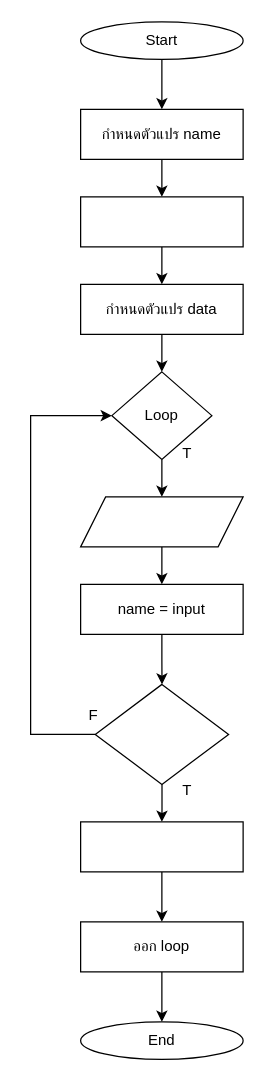
The diagram is 265 pixels wide and 1081 high, and some of its shapes have lost their labels. Each missing label, with the box of its shape:
input = Y หรือ y: (94, 683, 229, 784)
กำหนดตัวแปร input: (79, 196, 243, 247)
ปริ้นค่า name: (79, 821, 243, 872)
รับค่า input: (79, 496, 243, 547)
